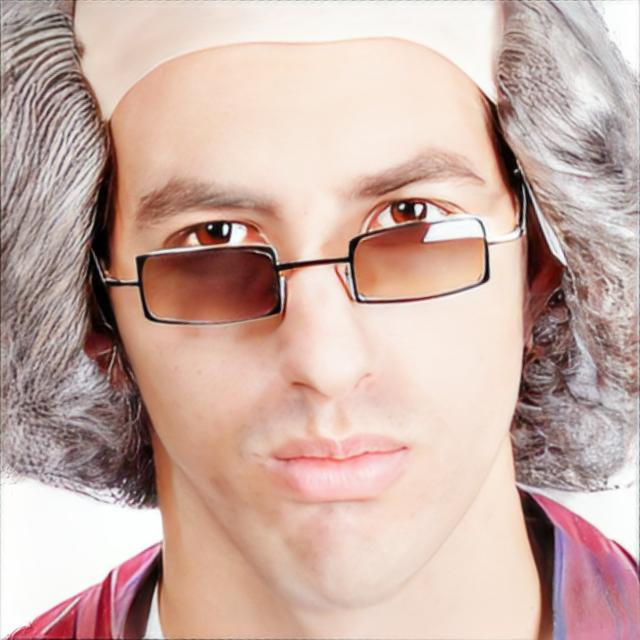anger: (102, 39, 530, 620)
